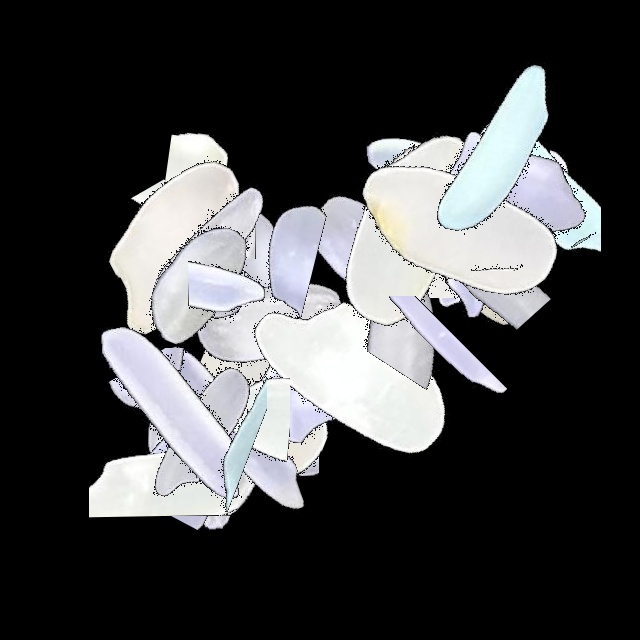Broken: (427, 87, 601, 337), (152, 313, 402, 485), (405, 126, 574, 376), (390, 152, 640, 316), (393, 92, 557, 342), (119, 315, 278, 565), (135, 309, 289, 559), (353, 176, 505, 426), (89, 316, 238, 566), (355, 190, 605, 337), (122, 185, 372, 319), (365, 212, 615, 337), (263, 296, 513, 420), (55, 348, 305, 470), (46, 377, 296, 495), (162, 82, 277, 332), (205, 297, 319, 547), (188, 155, 297, 405), (159, 270, 267, 520), (345, 194, 595, 298), (390, 200, 640, 303), (83, 164, 333, 259), (104, 384, 354, 479), (390, 181, 640, 274), (429, 103, 515, 353), (204, 299, 290, 549), (136, 163, 219, 413), (127, 98, 206, 348), (380, 192, 630, 271), (78, 243, 328, 321)
Full: (381, 104, 631, 354), (130, 142, 380, 392), (337, 56, 587, 306), (236, 119, 486, 369), (66, 337, 316, 587), (187, 263, 437, 513), (147, 199, 397, 449), (62, 139, 312, 389), (106, 303, 356, 553), (231, 252, 481, 502), (338, 108, 588, 358), (55, 121, 305, 371), (84, 123, 334, 373), (283, 104, 533, 354), (338, 100, 588, 350), (70, 157, 320, 407), (76, 309, 326, 559), (46, 286, 296, 536), (332, 105, 582, 355), (369, 23, 619, 273)
